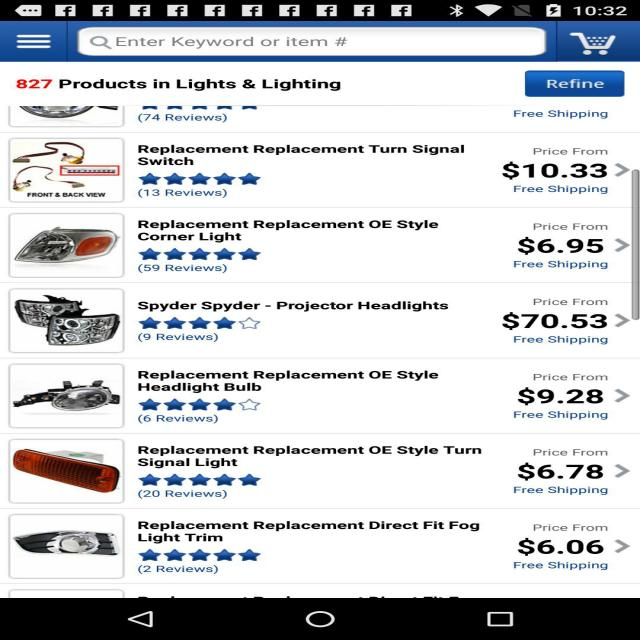button: (502, 64, 639, 95), (559, 29, 626, 56), (9, 23, 60, 58), (604, 300, 638, 340), (610, 532, 640, 567), (606, 381, 638, 413), (607, 235, 640, 266), (608, 456, 640, 485), (606, 156, 638, 184), (85, 32, 121, 54)
image: (9, 514, 124, 576), (13, 140, 124, 203), (12, 214, 124, 276), (14, 289, 125, 351), (13, 367, 126, 426), (15, 440, 121, 500)
text: (130, 437, 488, 474), (134, 213, 462, 246), (131, 516, 486, 546), (134, 366, 447, 400), (130, 142, 476, 171), (480, 206, 612, 277), (12, 72, 370, 97), (485, 290, 610, 351), (130, 299, 466, 319), (488, 370, 609, 425), (496, 141, 608, 197), (506, 444, 612, 501), (511, 518, 610, 576), (498, 106, 630, 128), (140, 408, 237, 429), (140, 486, 244, 504), (140, 261, 251, 277), (134, 185, 251, 200), (133, 111, 262, 124), (128, 562, 230, 578), (135, 330, 233, 346)
